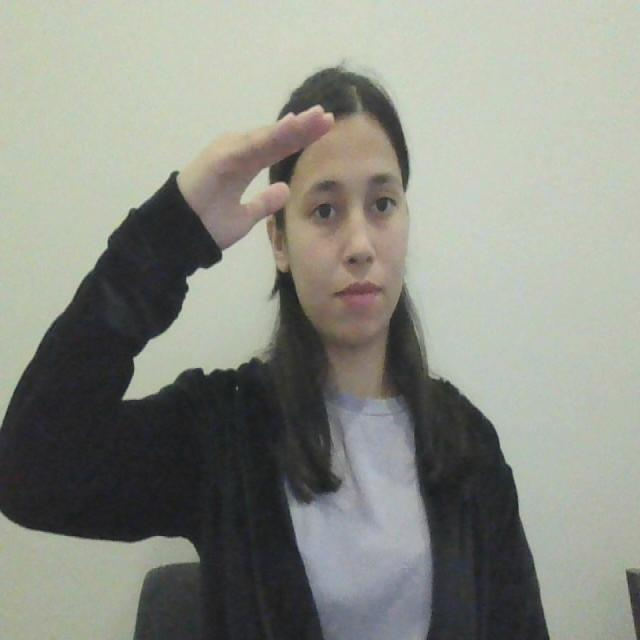Merhaba: (174, 90, 348, 316)
